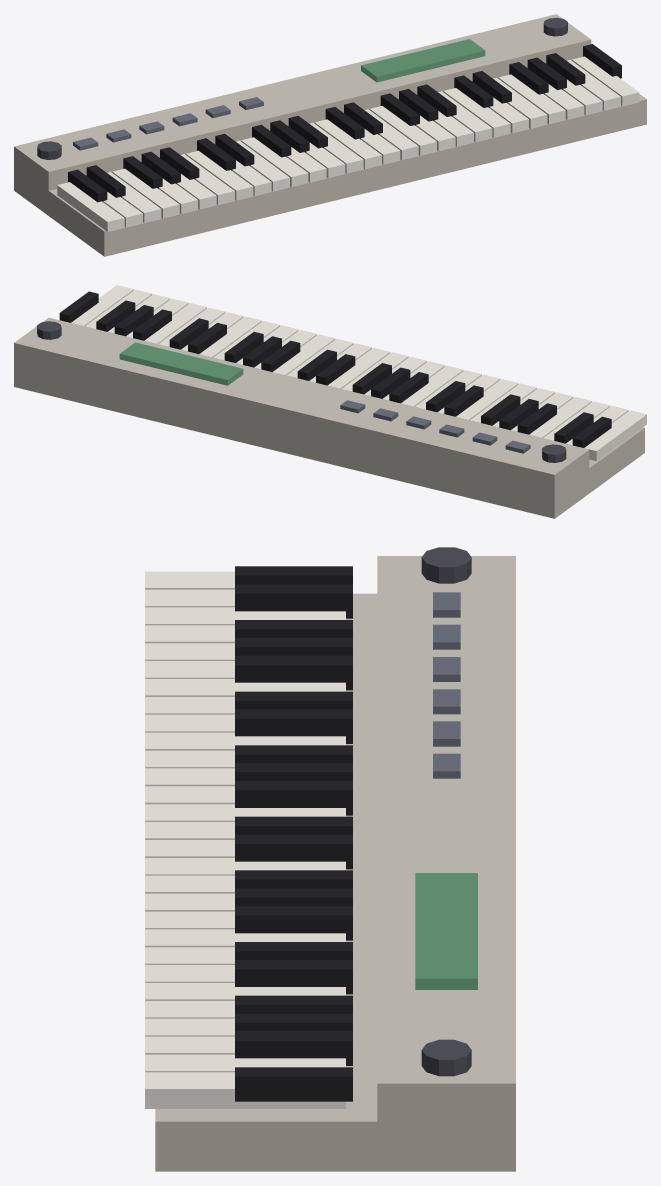
Rendered from keyboard_music.glb.
3 views of the same model, one above another, from view 1: azimuth 30°, elevation 25°; view 2: azimuth 150°, elevation 25°; view 3: azimuth 270°, elevation 25° (orthographic). The views are drawn at different scales.
Parts seen in each view (by area): view 1: keyboard_music; view 2: keyboard_music; view 3: keyboard_music.
Part boxes in pixels (left/top/right/bottom): keyboard_music: left=14, top=14, right=646, bottom=256; keyboard_music: left=14, top=285, right=646, bottom=518; keyboard_music: left=145, top=547, right=515, bottom=1171.
Bounding box in the file's own units: 0.9 × 0.083 × 0.2675.
